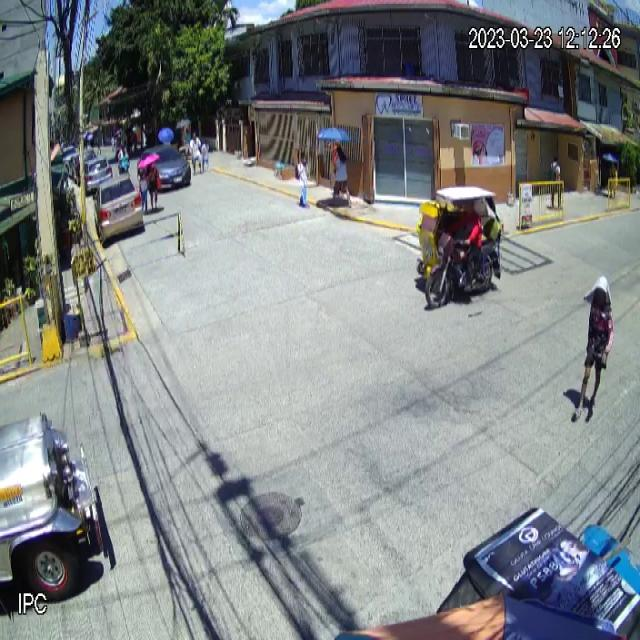Car: (93, 173, 144, 243)
Tricycle: (414, 183, 502, 309)
